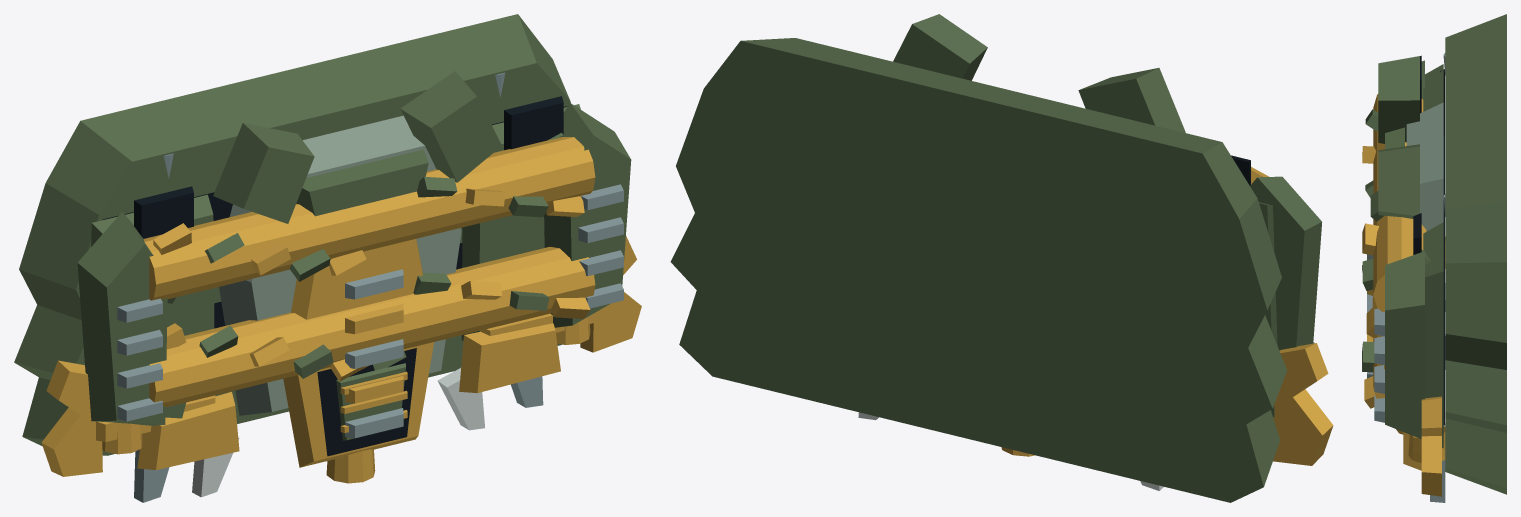
3 views of the same model, side by side, from view 1: azimuth 30°, elevation 25°; view 2: azimuth 150°, elevation 25°; view 3: azimuth 270°, elevation 25° (orthographic). The views are drawn at different scales.
Parts seen in each view (by area): view 1: Model, Drum1, Drum0, ChaffGuard_1, ChaffGuard_-1; view 2: Model; view 3: Model, Drum1, Drum0, ChaffGuard_1.
Part boxes in pixels (x1,y1,x2,y2): Model: (14,14,641,502); Drum1: (143,132,595,303); Drum0: (149,247,595,418); ChaffGuard_1: (459,323,560,393); ChaffGuard_-1: (137,392,239,469); Model: (670,14,1333,502); Model: (1367,14,1506,502); Drum1: (1362,94,1430,318); Drum0: (1362,265,1384,408); ChaffGuard_1: (1403,432,1421,470).
Size of the model in its own units: 3.56 by 2.16 by 0.868.
